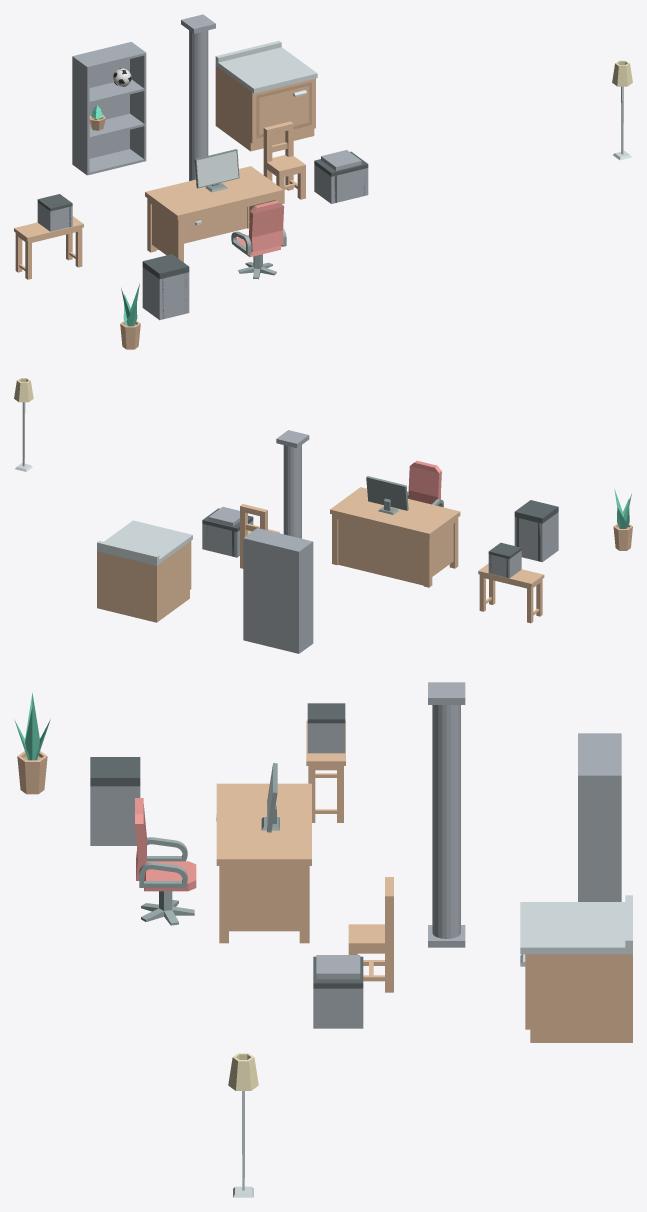
3 views of the same model, one above another, from view 1: azimuth 30°, elevation 25°; view 2: azimuth 150°, elevation 25°; view 3: azimuth 270°, elevation 25° (orthographic). The views are drawn at different scales.
Parts seen in each view (by area): view 1: desk_blue__desk(Clone), cabinet_blue__kitchenCabinet(Clone), column_cyan__column_cyan shaft, cabinet_blue__door, shelf_orange__shelf_orange back, chair_cyan__chair(Clone), deskchair_black__chair, shelf_orange__shelf_orange side_l, bin_gray__bin_gray shell, sidetable_brown__sideTable(Clone), crate_red__crate_red shell, shelf_orange__shelf_orange side_r (+10 smaller); view 2: desk_blue__desk(Clone), cabinet_blue__kitchenCabinet(Clone), shelf_orange__shelf_orange back, shelf_orange__shelf_orange side_l, column_cyan__column_cyan shaft, sidetable_brown__sideTable(Clone), bin_gray__bin_gray shell, deskchair_black__chair, monitor_gray__computerScreen(Clone), crate_red__crate_red shell, chair_cyan__chair(Clone), shelf_orange__shelf_orange board3 (+6 smaller); view 3: cabinet_blue__kitchenCabinet(Clone), desk_blue__desk(Clone), column_cyan__column_cyan shaft, shelf_orange__shelf_orange side_r, deskchair_black__chair, bin_gray__bin_gray shell, chair_cyan__chair(Clone), crate_red__crate_red shell, shelf_orange__shelf_orange board3, sidetable_brown__sideTable(Clone), bin_gray__bin_gray lid, lamp_white__lampRoundFloor(Clone) (+8 smaller).
Boxes of the visible parts, left/top/right/bottom form: desk_blue__desk(Clone): left=145, top=166, right=283, bottom=262; cabinet_blue__kitchenCabinet(Clone): left=215, top=41, right=317, bottom=151; column_cyan__column_cyan shaft: left=189, top=30, right=208, bottom=180; cabinet_blue__door: left=256, top=82, right=311, bottom=138; shelf_orange__shelf_orange back: left=75, top=42, right=129, bottom=158; chair_cyan__chair(Clone): left=263, top=121, right=305, bottom=204; deskchair_black__chair: left=231, top=200, right=286, bottom=257; shelf_orange__shelf_orange side_l: left=72, top=55, right=89, bottom=175; bin_gray__bin_gray shell: left=142, top=267, right=189, bottom=320; sidetable_brown__sideTable(Clone): left=14, top=216, right=83, bottom=279; crate_red__crate_red shell: left=314, top=164, right=368, bottom=203; shelf_orange__shelf_orange side_r: left=130, top=42, right=146, bottom=161; desk_blue__desk(Clone): left=330, top=487, right=460, bottom=587; cabinet_blue__kitchenCabinet(Clone): left=97, top=520, right=192, bottom=622; shelf_orange__shelf_orange back: left=245, top=538, right=297, bottom=653; shelf_orange__shelf_orange side_l: left=297, top=541, right=313, bottom=653; column_cyan__column_cyan shaft: left=283, top=445, right=301, bottom=538; sidetable_brown__sideTable(Clone): left=478, top=563, right=544, bottom=623; bin_gray__bin_gray shell: left=514, top=512, right=558, bottom=562; deskchair_black__chair: left=407, top=460, right=443, bottom=507; monitor_gray__computerScreen(Clone): left=366, top=476, right=408, bottom=514; crate_red__crate_red shell: left=202, top=520, right=253, bottom=557; chair_cyan__chair(Clone): left=240, top=504, right=279, bottom=568; shelf_orange__shelf_orange board3: left=246, top=528, right=310, bottom=550; cabinet_blue__kitchenCabinet(Clone): left=520, top=895, right=632, bottom=1042; desk_blue__desk(Clone): left=216, top=783, right=311, bottom=943; column_cyan__column_cyan shaft: left=432, top=705, right=460, bottom=938; shelf_orange__shelf_orange side_r: left=578, top=774, right=621, bottom=901; deskchair_black__chair: left=135, top=798, right=196, bottom=891; bin_gray__bin_gray shell: left=90, top=786, right=140, bottom=845; chair_cyan__chair(Clone): left=348, top=877, right=393, bottom=992; crate_red__crate_red shell: left=313, top=988, right=363, bottom=1028; shelf_orange__shelf_orange board3: left=578, top=735, right=619, bottom=773; sidetable_brown__sideTable(Clone): left=306, top=720, right=345, bottom=822; bin_gray__bin_gray lid: left=90, top=757, right=140, bottom=786; lamp_white__lampRoundFloor(Clone): left=228, top=1053, right=258, bottom=1197.
Size of the model in its own units: 7.86 by 2.2 by 4.95.
